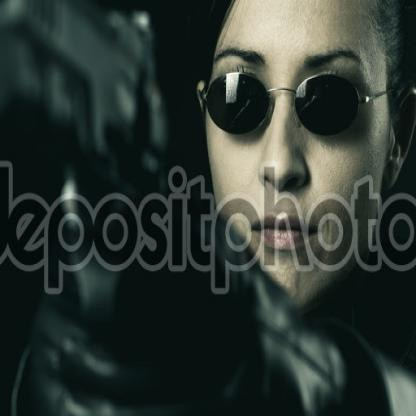gun: (0, 0, 200, 408)
